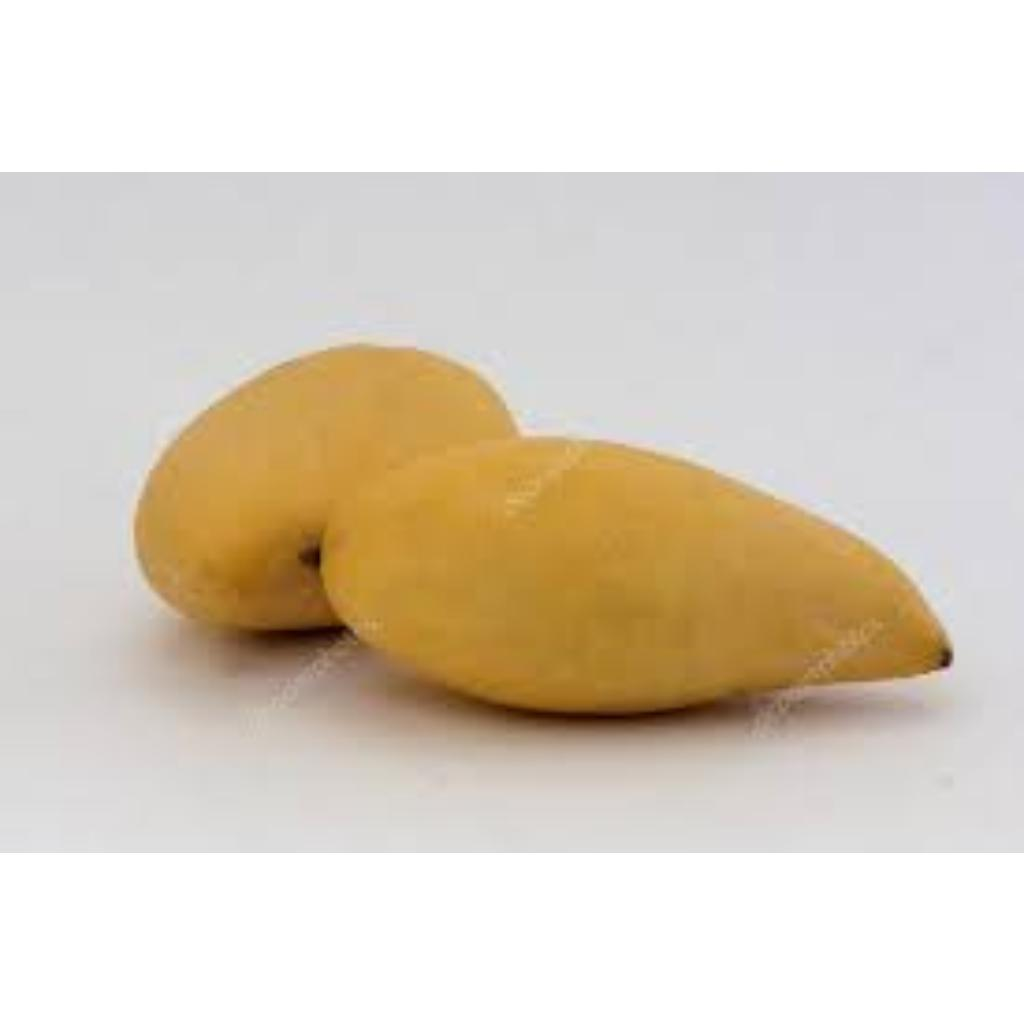mango: (320, 435, 953, 718), (134, 339, 533, 629)
